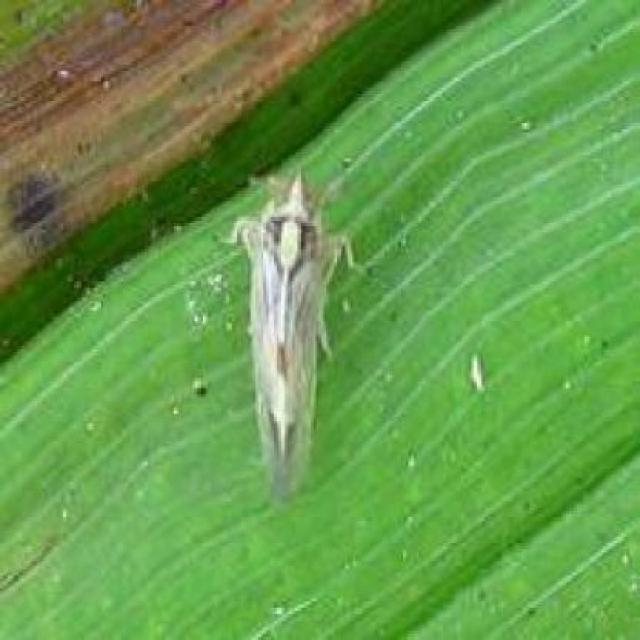brown-planthopper: (240, 195, 318, 488)
